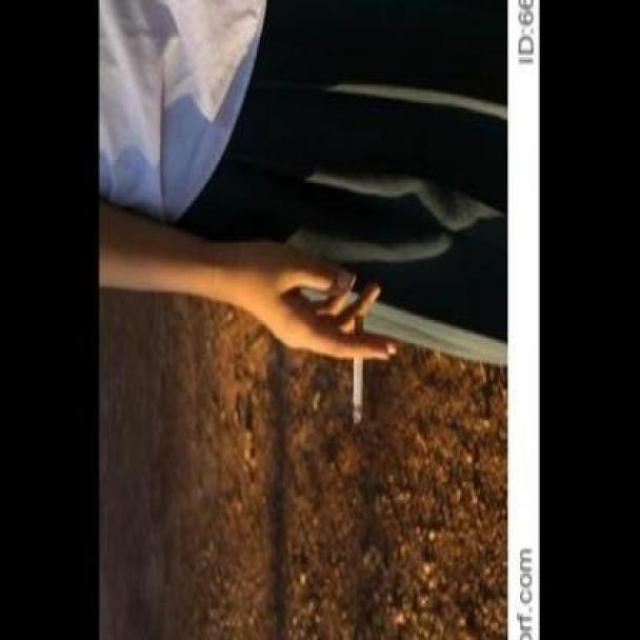rokok: (348, 338, 368, 428)
